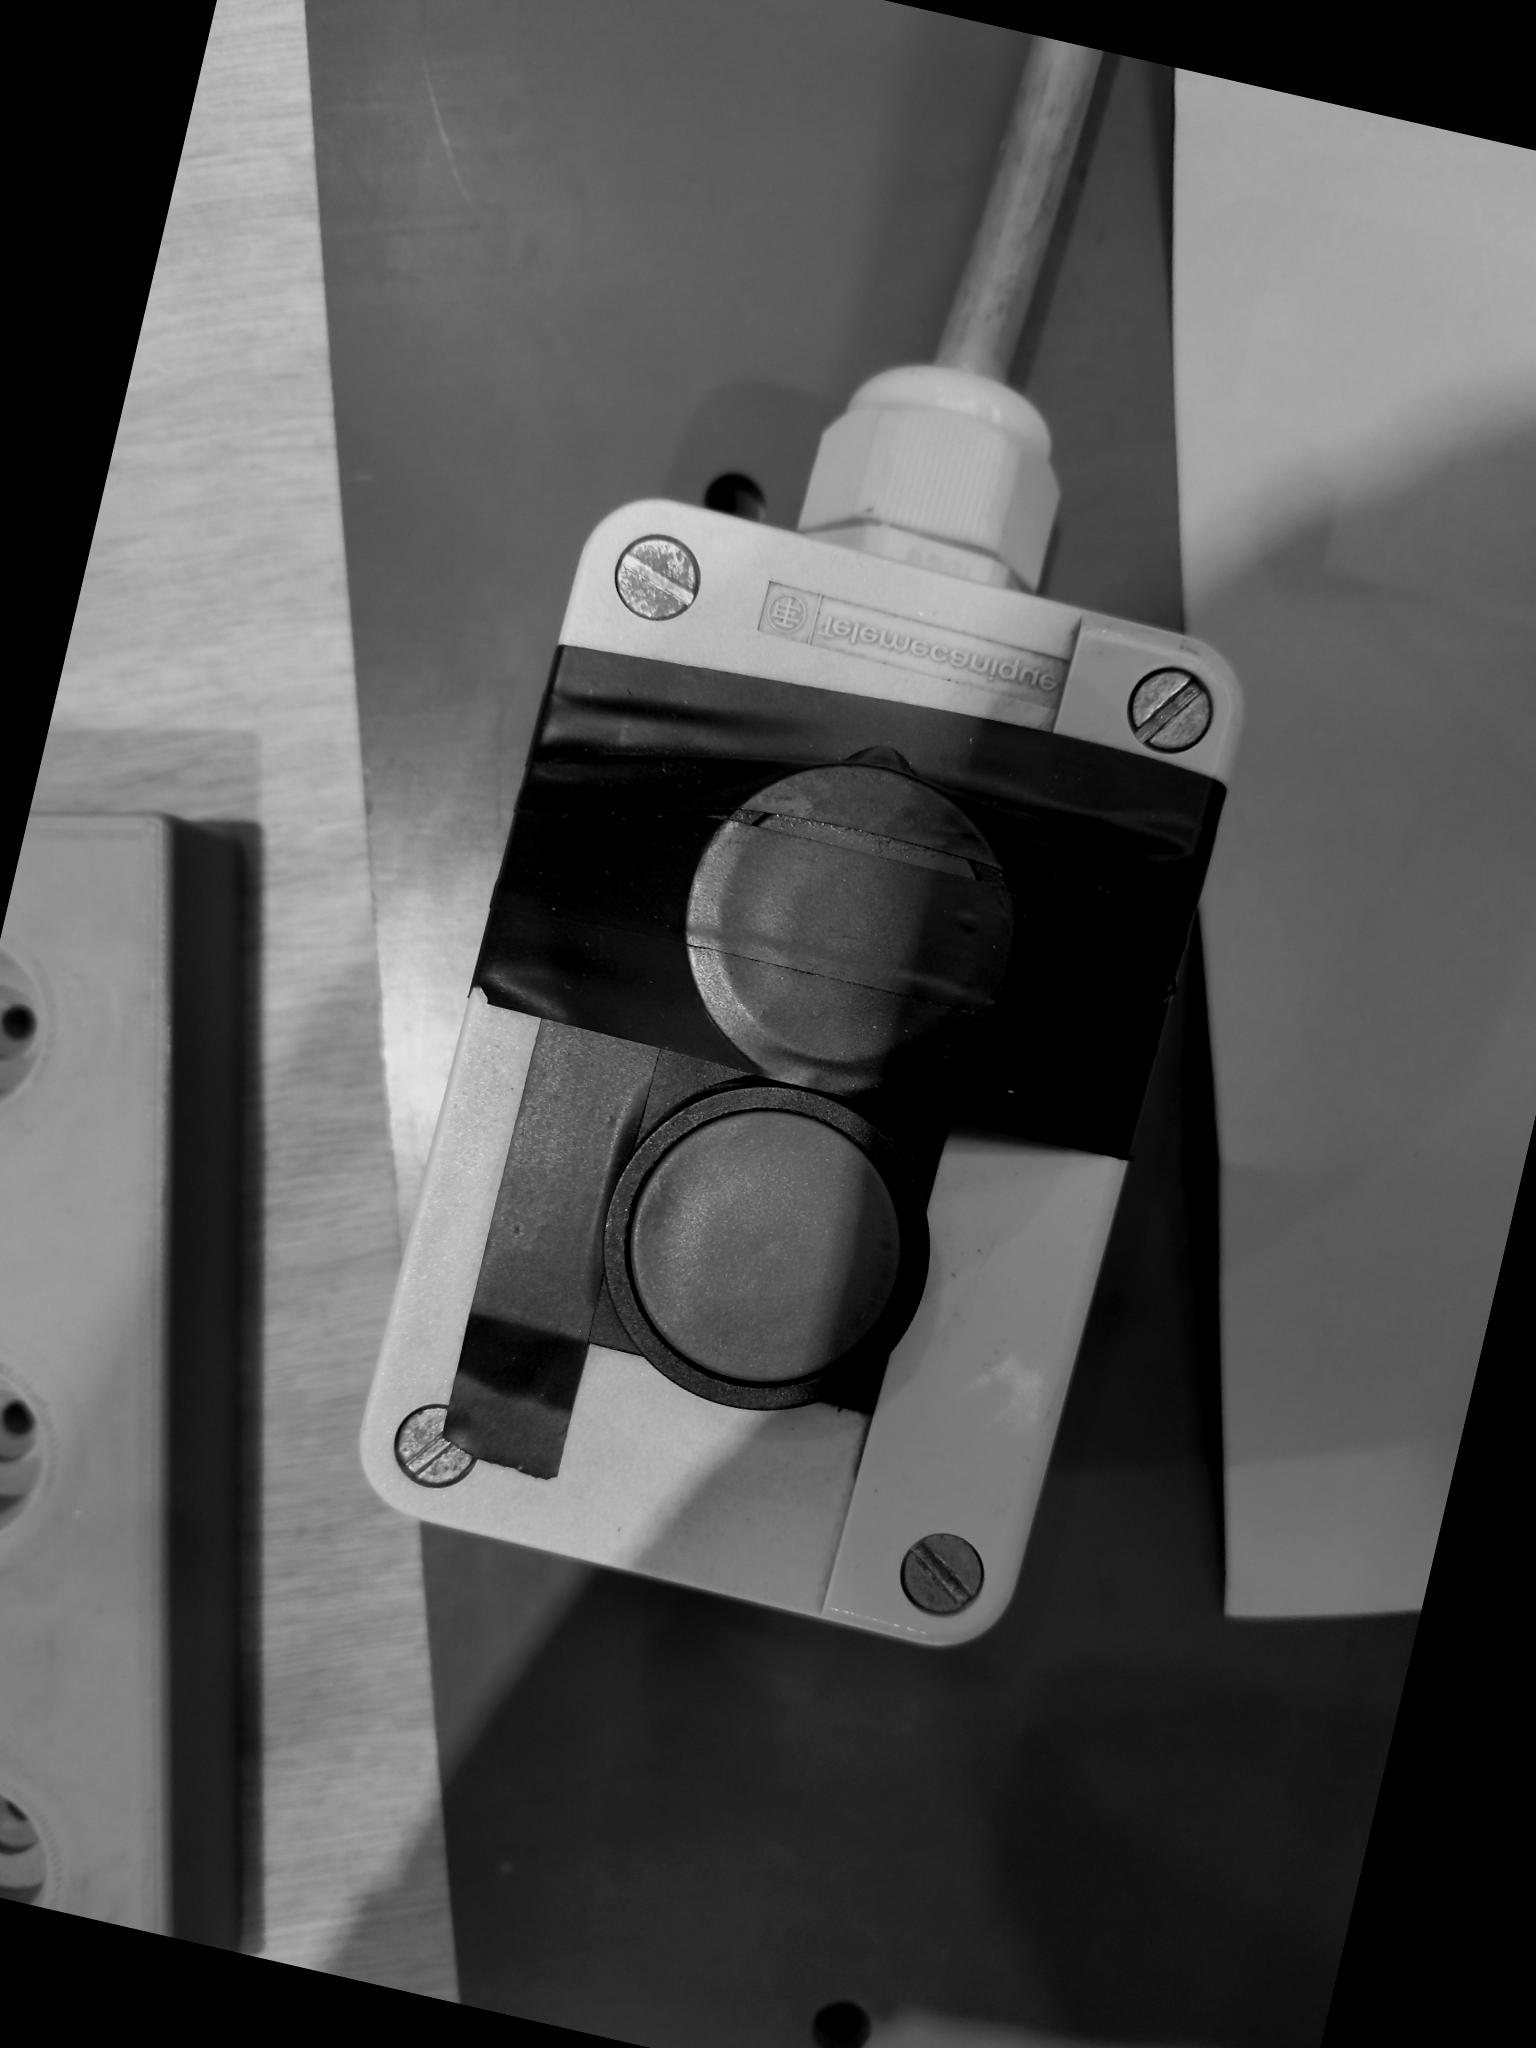slotted: (370, 1380, 490, 1508), (1111, 656, 1232, 768), (604, 524, 712, 632), (886, 1520, 992, 1626)
